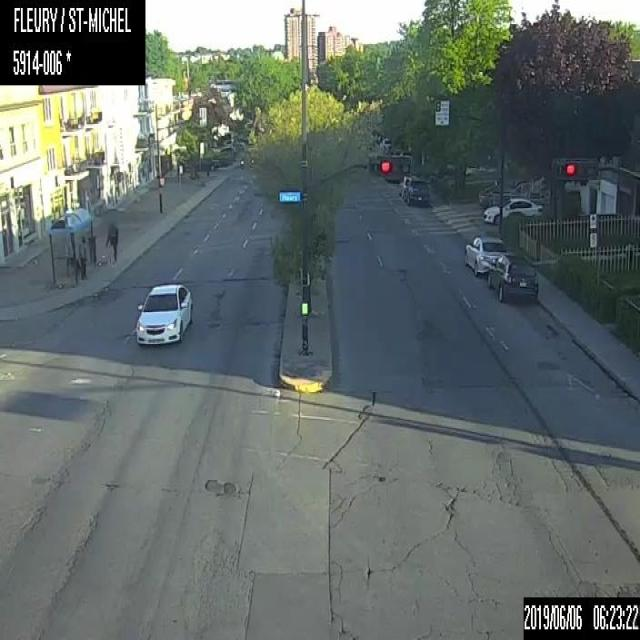pedestrian: (104, 218, 118, 262), (77, 232, 89, 281)
vehicle: (135, 280, 192, 344), (486, 253, 538, 304), (464, 235, 509, 276), (482, 196, 542, 224), (478, 179, 514, 205), (402, 178, 429, 205), (178, 155, 218, 170), (399, 174, 420, 197), (240, 147, 262, 167), (379, 137, 391, 149)
